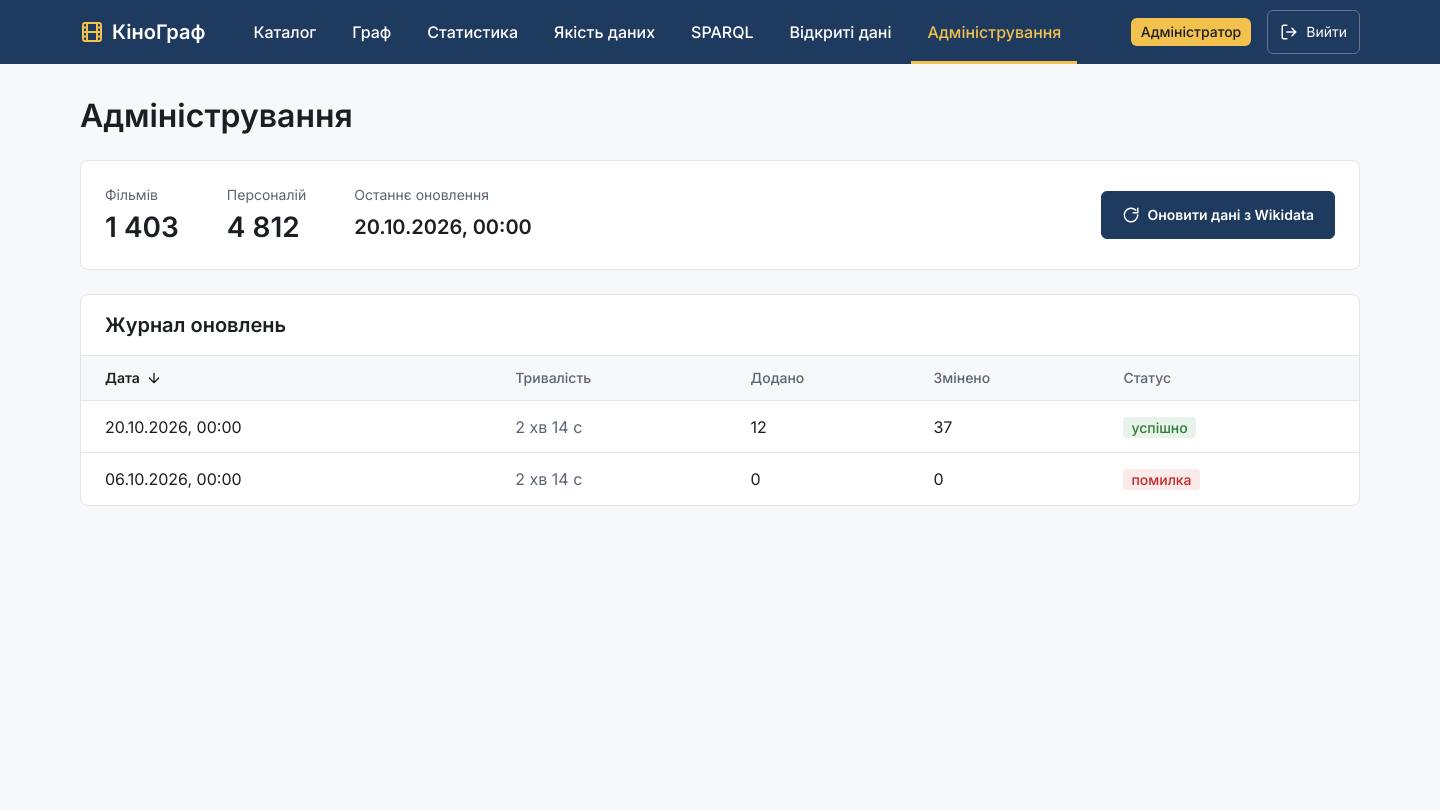
Test: панель адміністрування › відкриває подробиці запису журналу
Click the row "06.10.2026, 00:00 2 хв 14 с 0 0 помилка".
click(173, 479)  # box [81,452,1359,504]
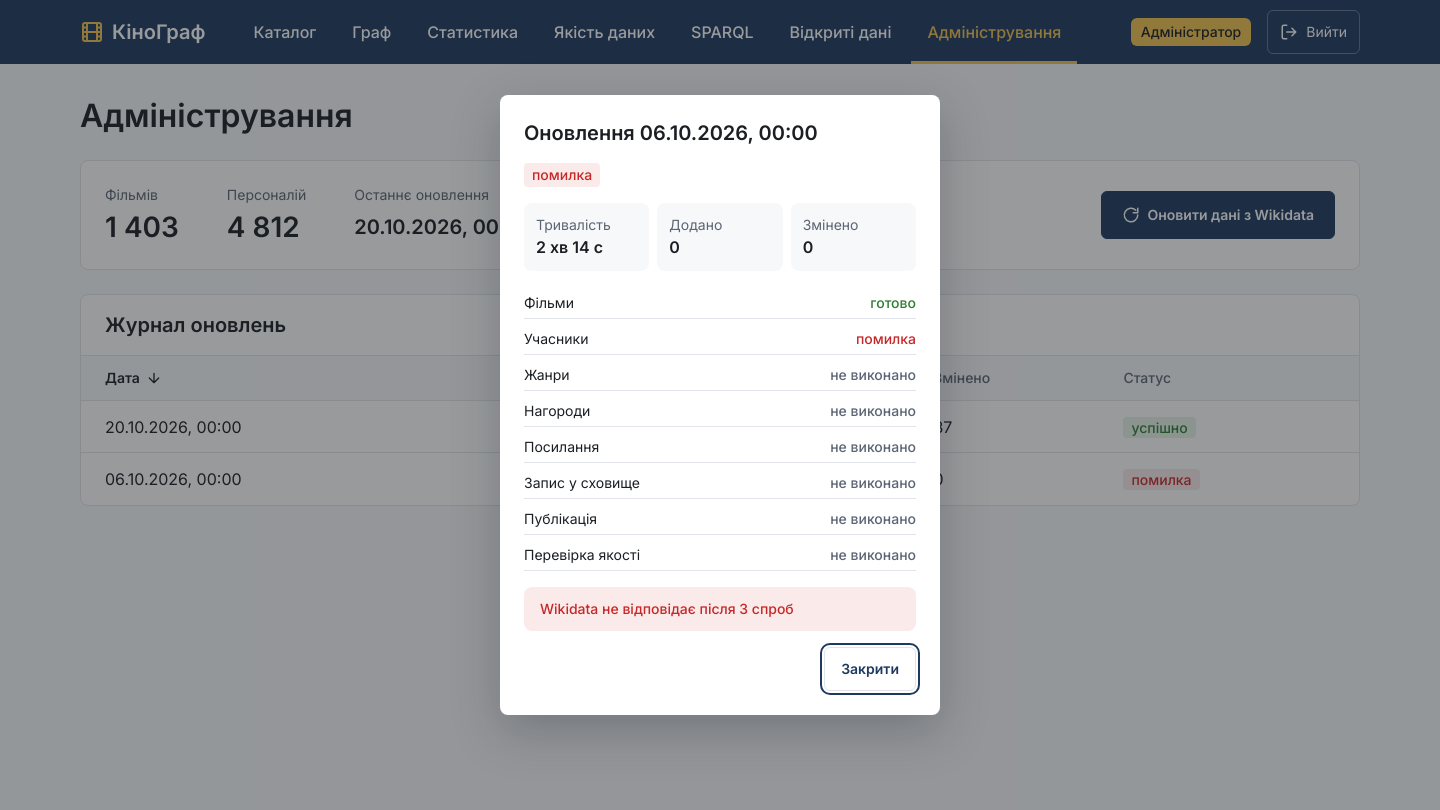
Expected: the text "готово" is shown, [870,292,916,312]
Expected: the text "помилка" in the row of "Учасники" is shown, [856,330,916,346]
Expected: the text "не виконано" in the row of "Жанри" is shown, [830,366,916,382]
Click the button "Закрити".
click(870, 669)  # box [824,647,916,691]
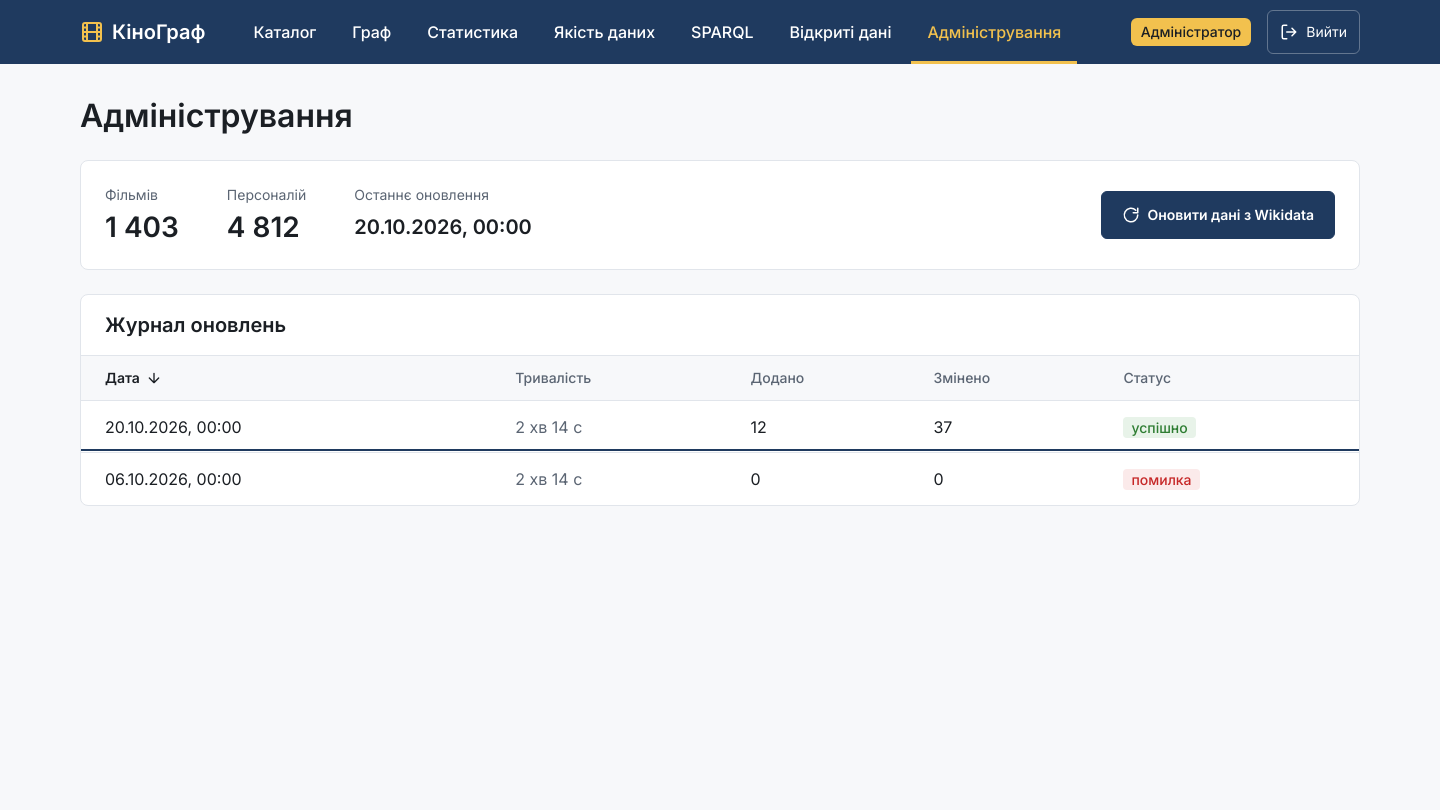
Expected: the dialog is gone
